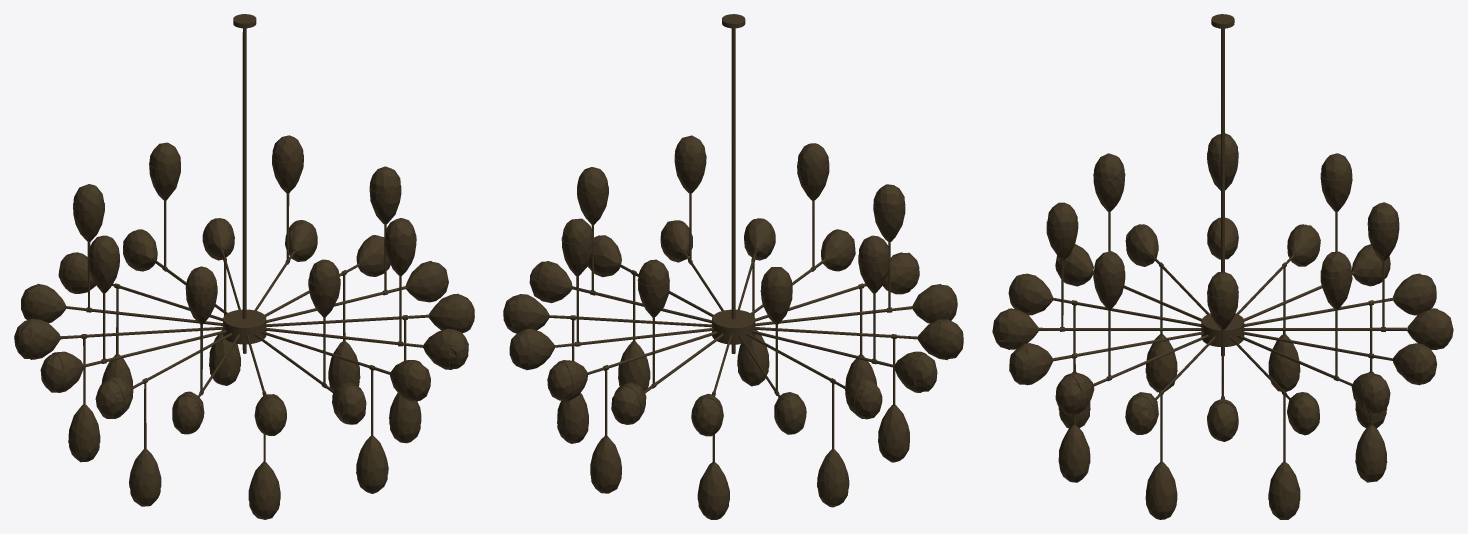
The picture shows the model from 3 angles, left to right: view 1: azimuth 30°, elevation 25°; view 2: azimuth 150°, elevation 25°; view 3: azimuth 270°, elevation 25°; orthographic projection.
Visible parts, largest first — view 1: solid_001_wire; view 2: solid_001_wire; view 3: solid_001_wire.
Boxes of the visible parts, bbox=[...] form: solid_001_wire: bbox=[14, 14, 474, 519]; solid_001_wire: bbox=[503, 14, 963, 519]; solid_001_wire: bbox=[992, 14, 1453, 519].
Bounding box in the file's own units: 0.8391 × 0.8611 × 0.8238.
